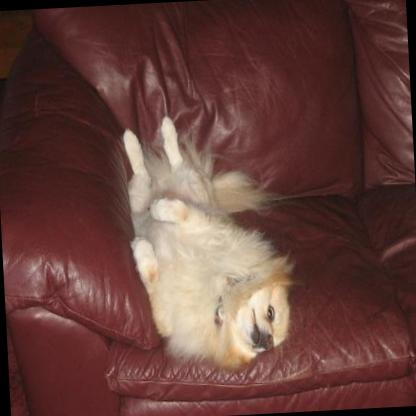Pomeranian: (122, 108, 296, 368)
